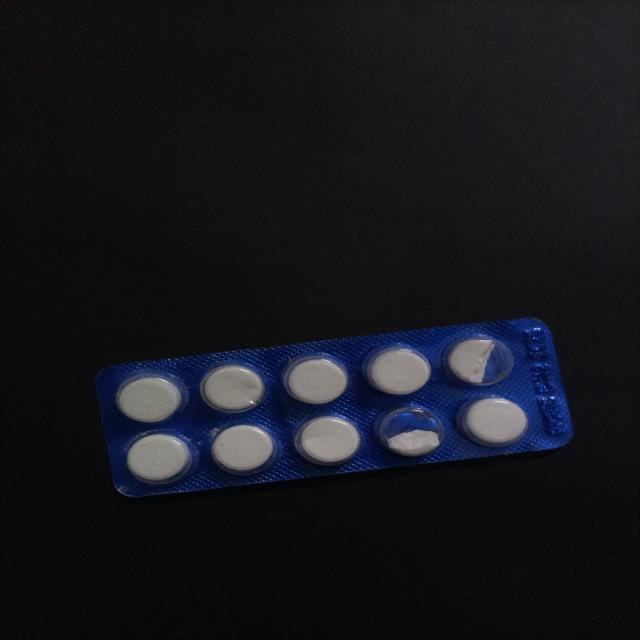defect: (442, 333, 517, 389), (375, 404, 447, 458)
